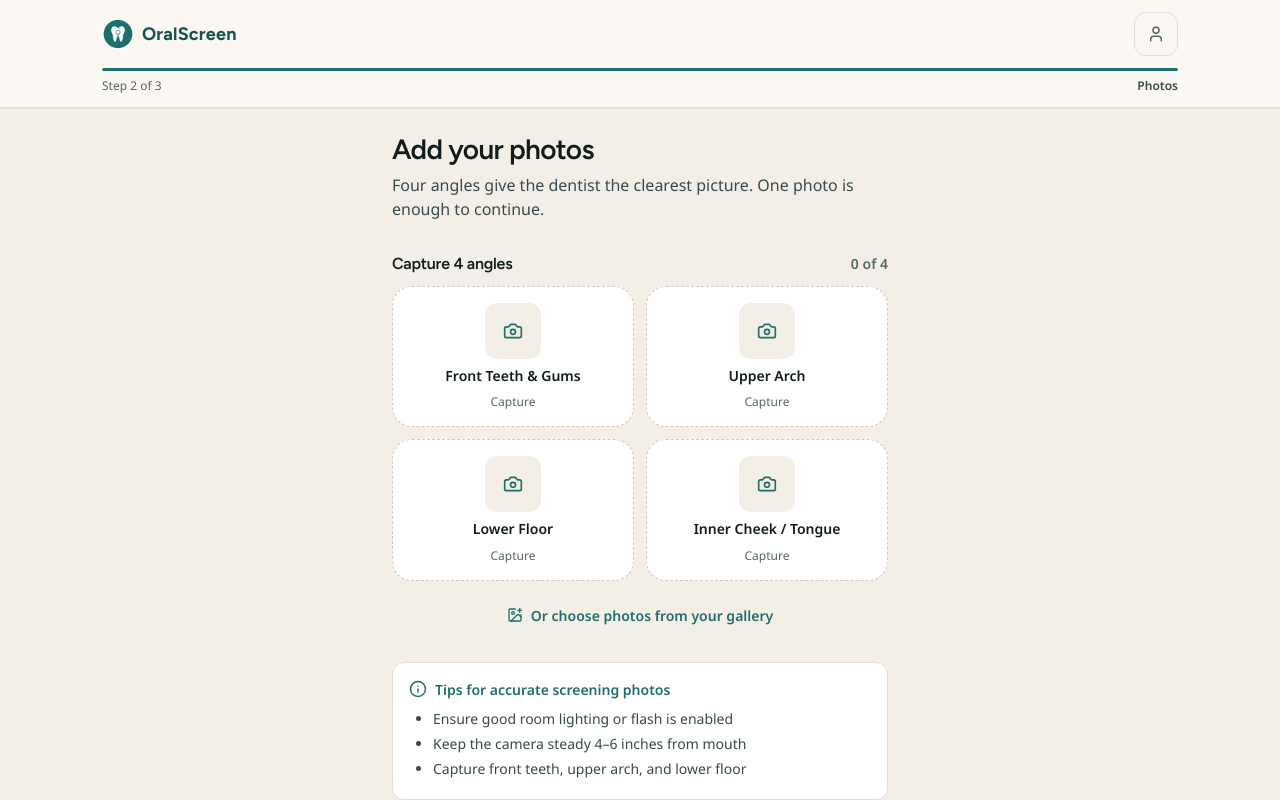
Test: the camera › explains a denied permission and offers the OS picker instead
Click the button "Front Teeth & Gums Capture" at (513, 357), box [392, 286, 634, 427]
(page scrolled)
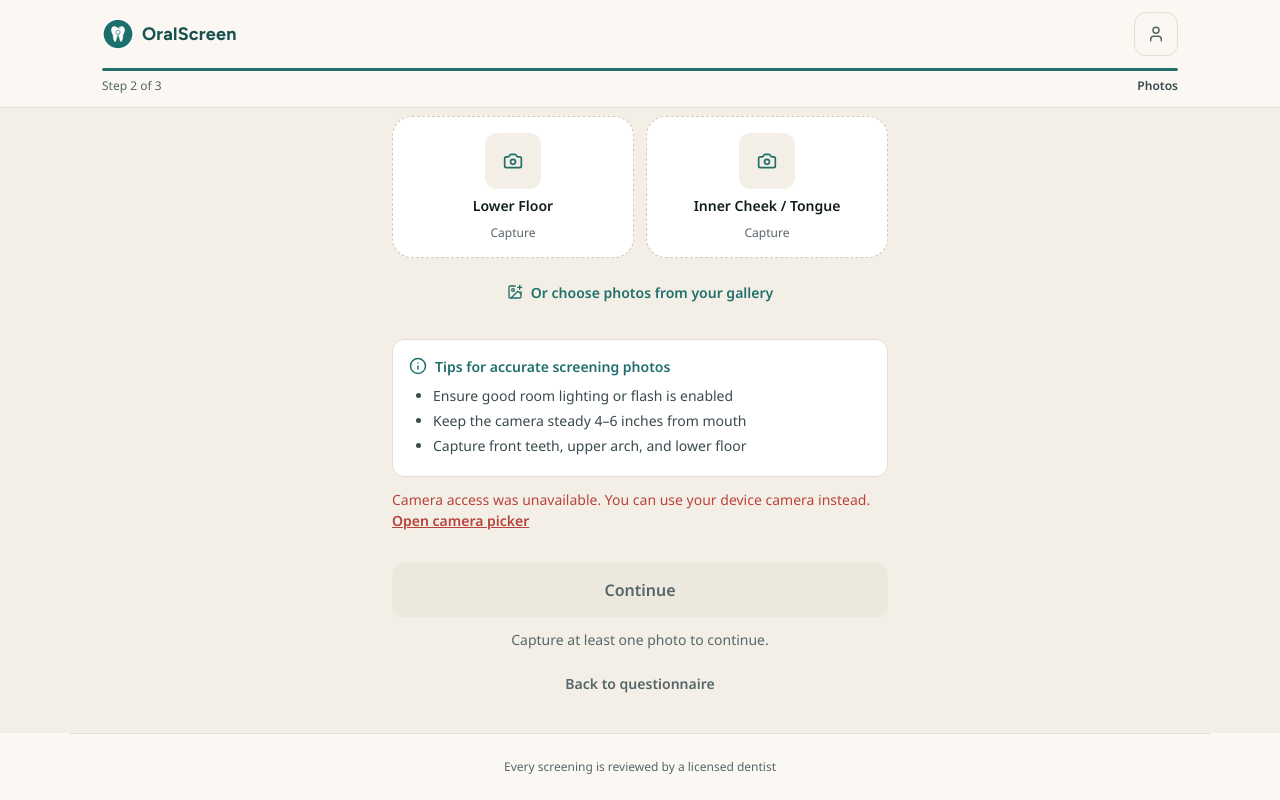
Expected: the text "Camera access was unavailable" is shown, [392, 490, 870, 509]
Expected: the button "Open camera picker" is shown, [392, 510, 529, 531]
